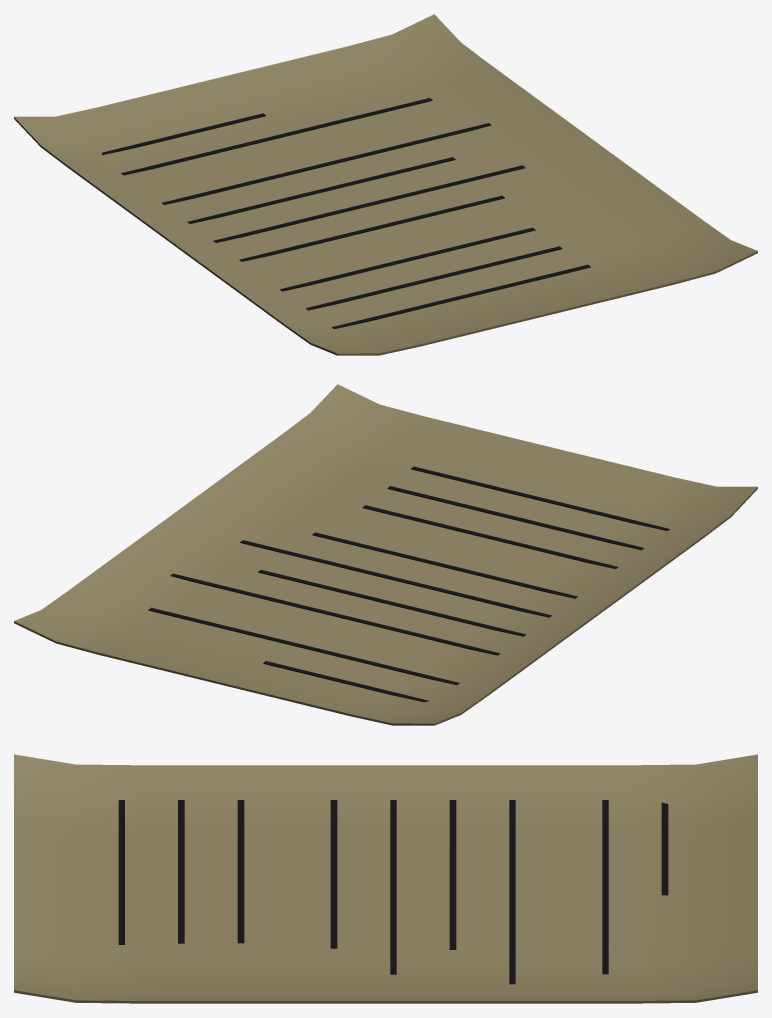
The model's file is Masa_Acik_Kagit.fbx.
3 renders of one model, top to bottom at view 1: azimuth 30°, elevation 25°; view 2: azimuth 150°, elevation 25°; view 3: azimuth 270°, elevation 25°, orthographic. The views are drawn at different scales.
Visible parts, largest first — view 1: Masa_Acik_Kagit; view 2: Masa_Acik_Kagit; view 3: Masa_Acik_Kagit.
Boxes of the visible parts, x1=… form: Masa_Acik_Kagit: x1=14, y1=14, x2=757, y2=355; Masa_Acik_Kagit: x1=14, y1=384, x2=757, y2=725; Masa_Acik_Kagit: x1=14, y1=754, x2=757, y2=1003.
Size of the model in its own units: 0.3 by 0.0154 by 0.4.
